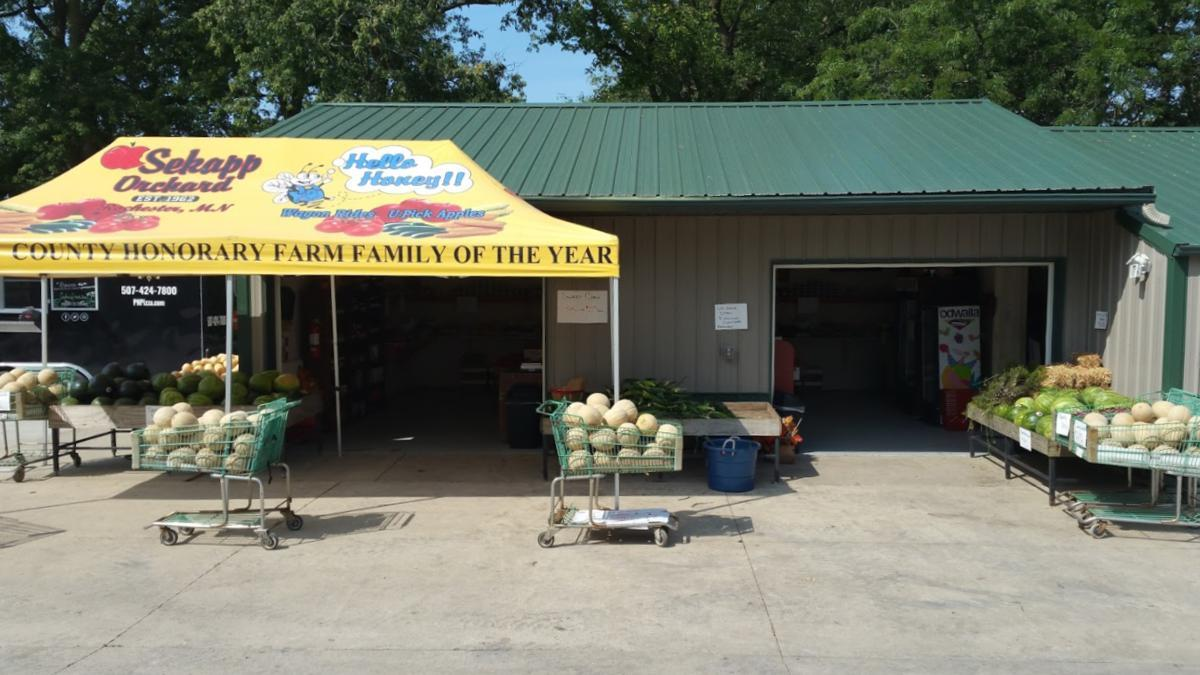apple: (271, 373, 300, 394)
